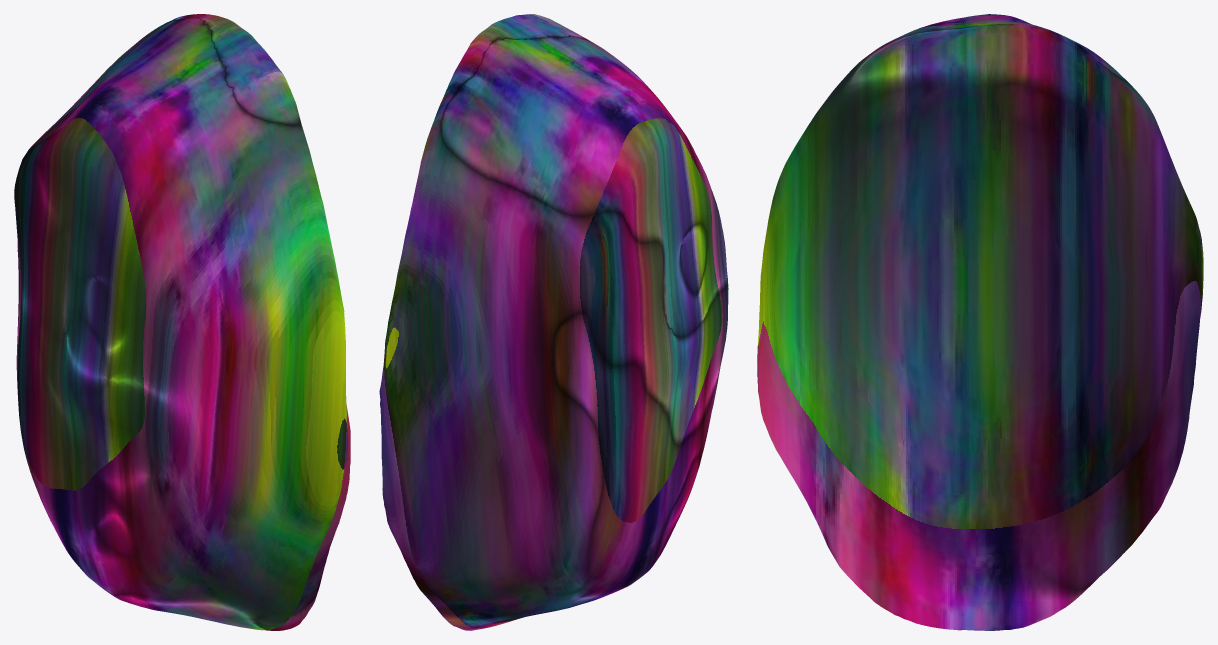
3 renders of one model, left to right at view 1: azimuth 30°, elevation 25°; view 2: azimuth 150°, elevation 25°; view 3: azimuth 270°, elevation 25°, orthographic.
Parts seen in each view (by area): view 1: Renderer Node; view 2: Renderer Node; view 3: Renderer Node.
Part boxes in pixels (x1,y1,x2,y2): Renderer Node: (14,14,350,630); Renderer Node: (379,14,728,630); Renderer Node: (757,14,1203,630).
Bounding box in the file's own units: 0.1469 × 0.4251 × 0.287.
1 material, 1 textured.
